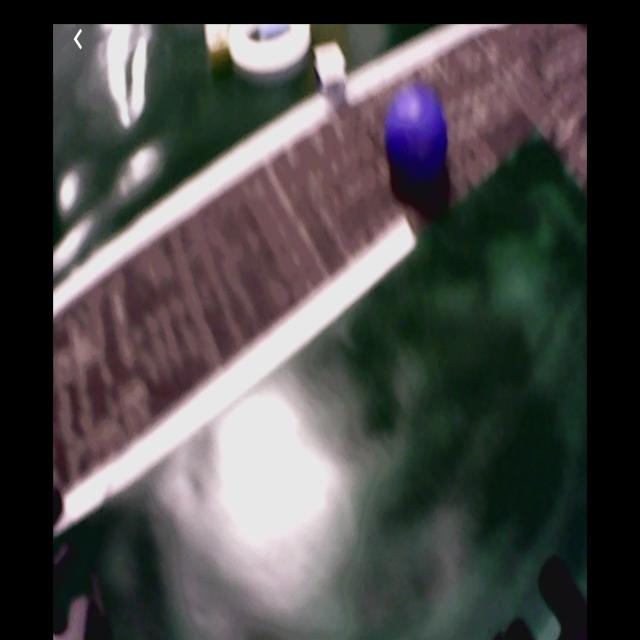ball: (385, 89, 448, 180)
